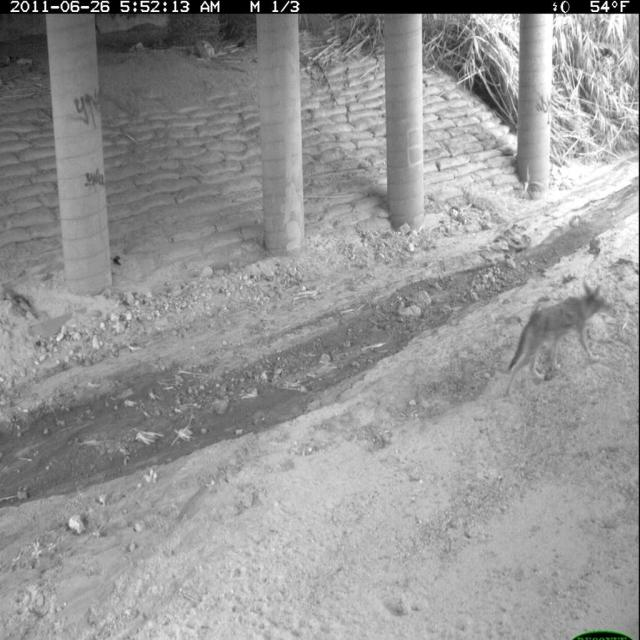coyote: (500, 275, 615, 404)
